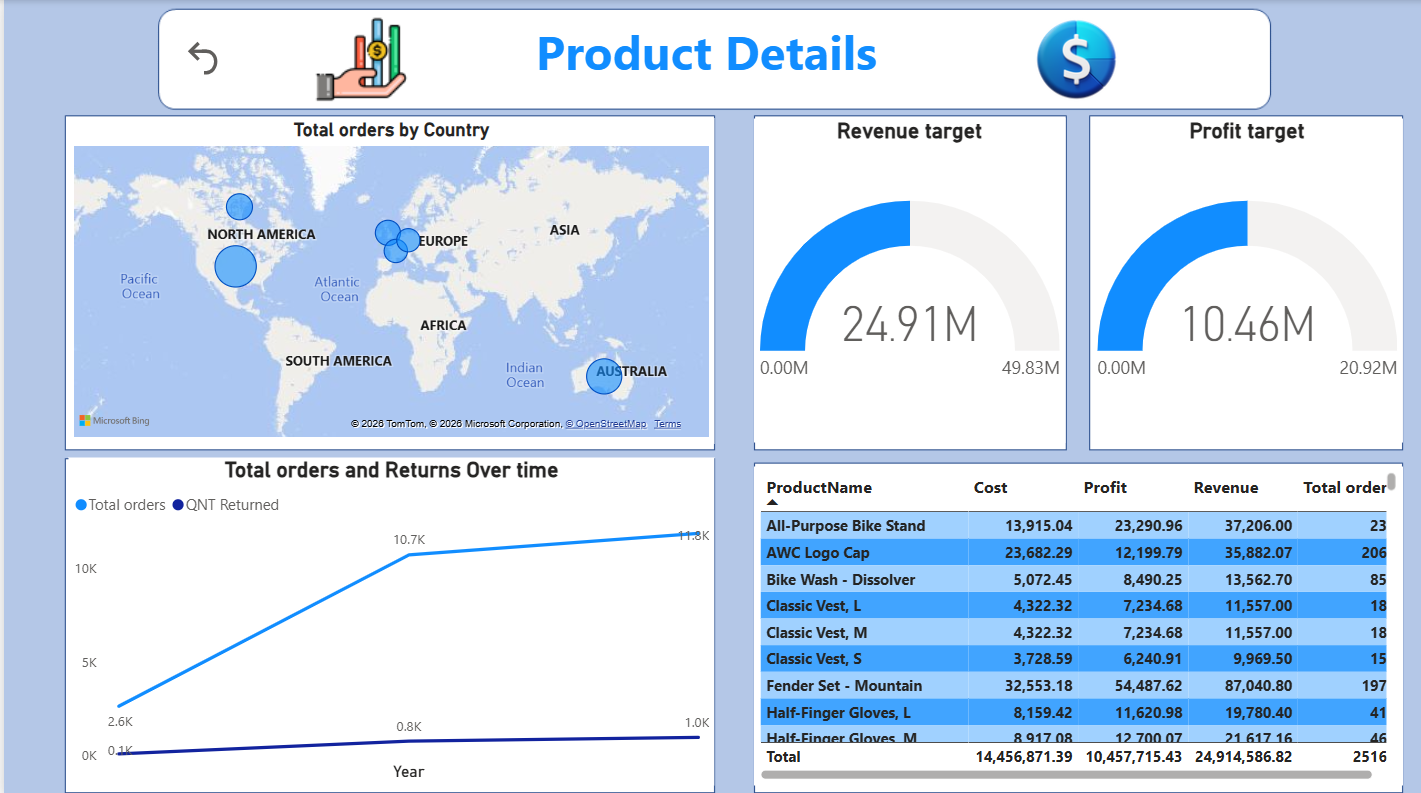

What the dashboard file says about the page in this screenshot:
{"tool":"powerbi","page":{"name":"Product Details","canvas":[1280,720],"ordinal":1},"visuals":[{"type":"lineChart","title":"Total orders and Returns Over time","fields":{"Y":["Measures Table (2).Total orders","Measures Table (2).QNT Returned"],"Category":["Calendar.Date.Variation.Date Hierarchy.Year","Calendar.Date.Variation.Date Hierarchy.Quarter"]},"box":[57.7,412.4,582.3,295.3],"z":0},{"type":"tableEx","fields":{"Values":["Product.ProductName","Measures Table (2).Cost","Measures Table (2).Profit","Measures Table (2).Revenue","Measures Table (2).Total orders"]},"box":[676.3,420.6,583.9,287],"z":1000},{"type":"map","fields":{"Category":["Territory.Country"],"Size":["Measures Table (2).Total orders"]},"box":[57.7,107.2,582.3,292],"z":2000},{"type":"gauge","title":"Revenue target","fields":{"Y":["Measures Table (2).Revenue"]},"box":[676.3,107.2,280.4,292],"z":3000},{"type":"gauge","title":"Profit target","fields":{"Y":["Measures Table (2).Profit"]},"box":[979.8,107.2,280.4,292],"z":4000},{"type":"textbox","box":[196.3,11.5,874.2,82.5],"z":5000},{"type":"image","box":[196.3,11.5,252.4,82.5],"z":6000},{"type":"image","box":[816.5,11.5,300.2,82.5],"z":7000},{"type":"actionButton","box":[160,33,100.6,39.6],"z":8000}]}

Visuals, with their boxes in screenshot pixels (x1, y1, x2, y2), scaled from the page's 1280x720 canvas onto the 1421x793 screenshot:
"Total orders and Returns Over time" lineChart: 64/454/710/779
tableEx - Product.ProductName x Measures Table (2).Cost: 751/463/1399/779
map - Territory.Country x Measures Table (2).Total orders: 64/118/710/440
"Revenue target" gauge: 751/118/1062/440
"Profit target" gauge: 1088/118/1399/440
textbox: 218/13/1188/104
image: 218/13/498/104
image: 906/13/1240/104
actionButton: 178/36/289/80
